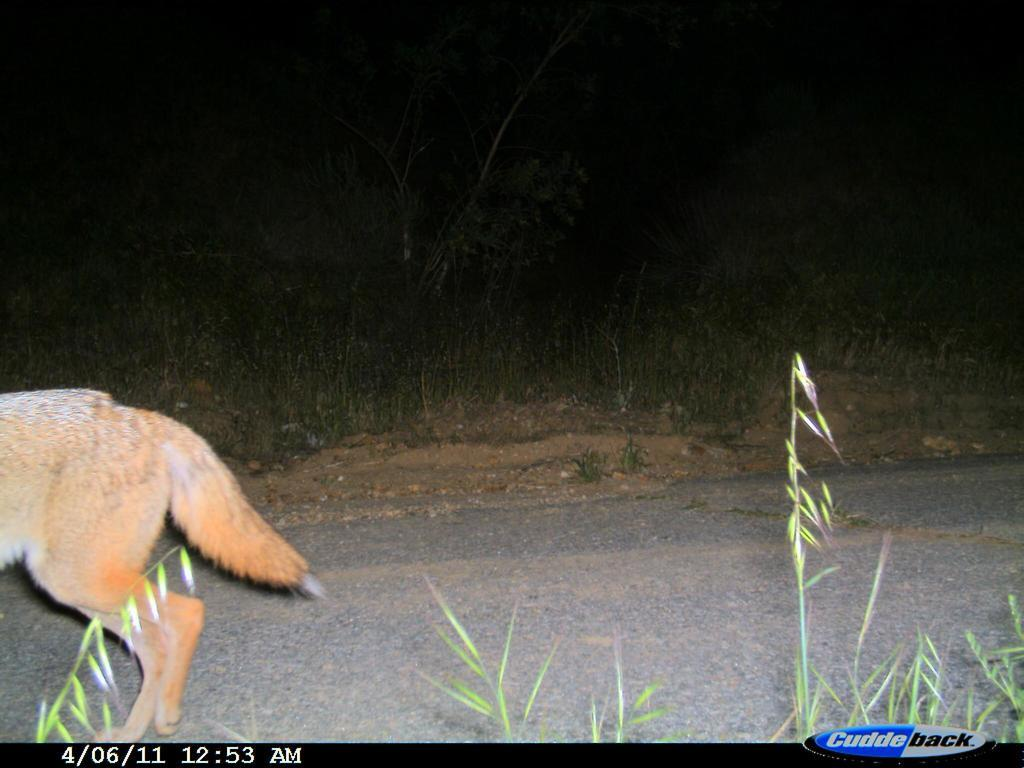coyote: (2, 383, 327, 742)
